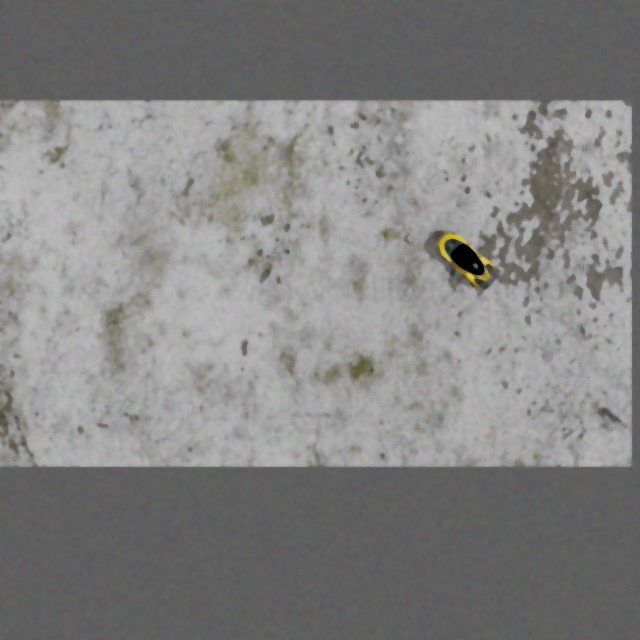car: (429, 225, 505, 294)
